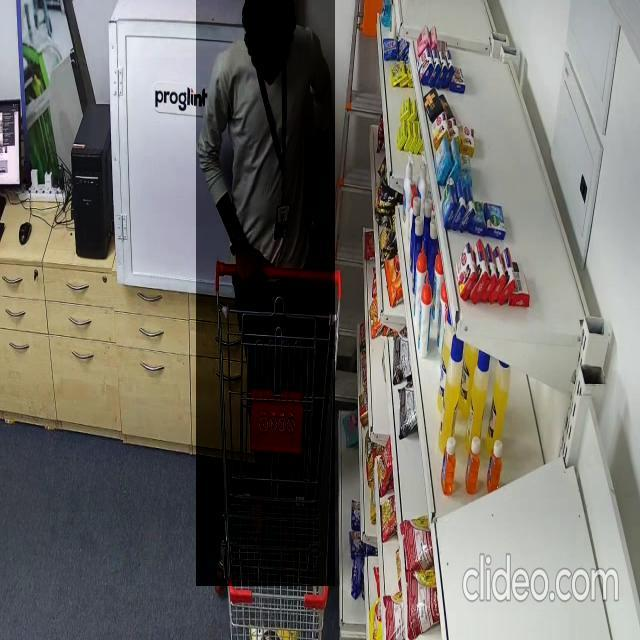Shoplifting: (196, 0, 335, 586)
